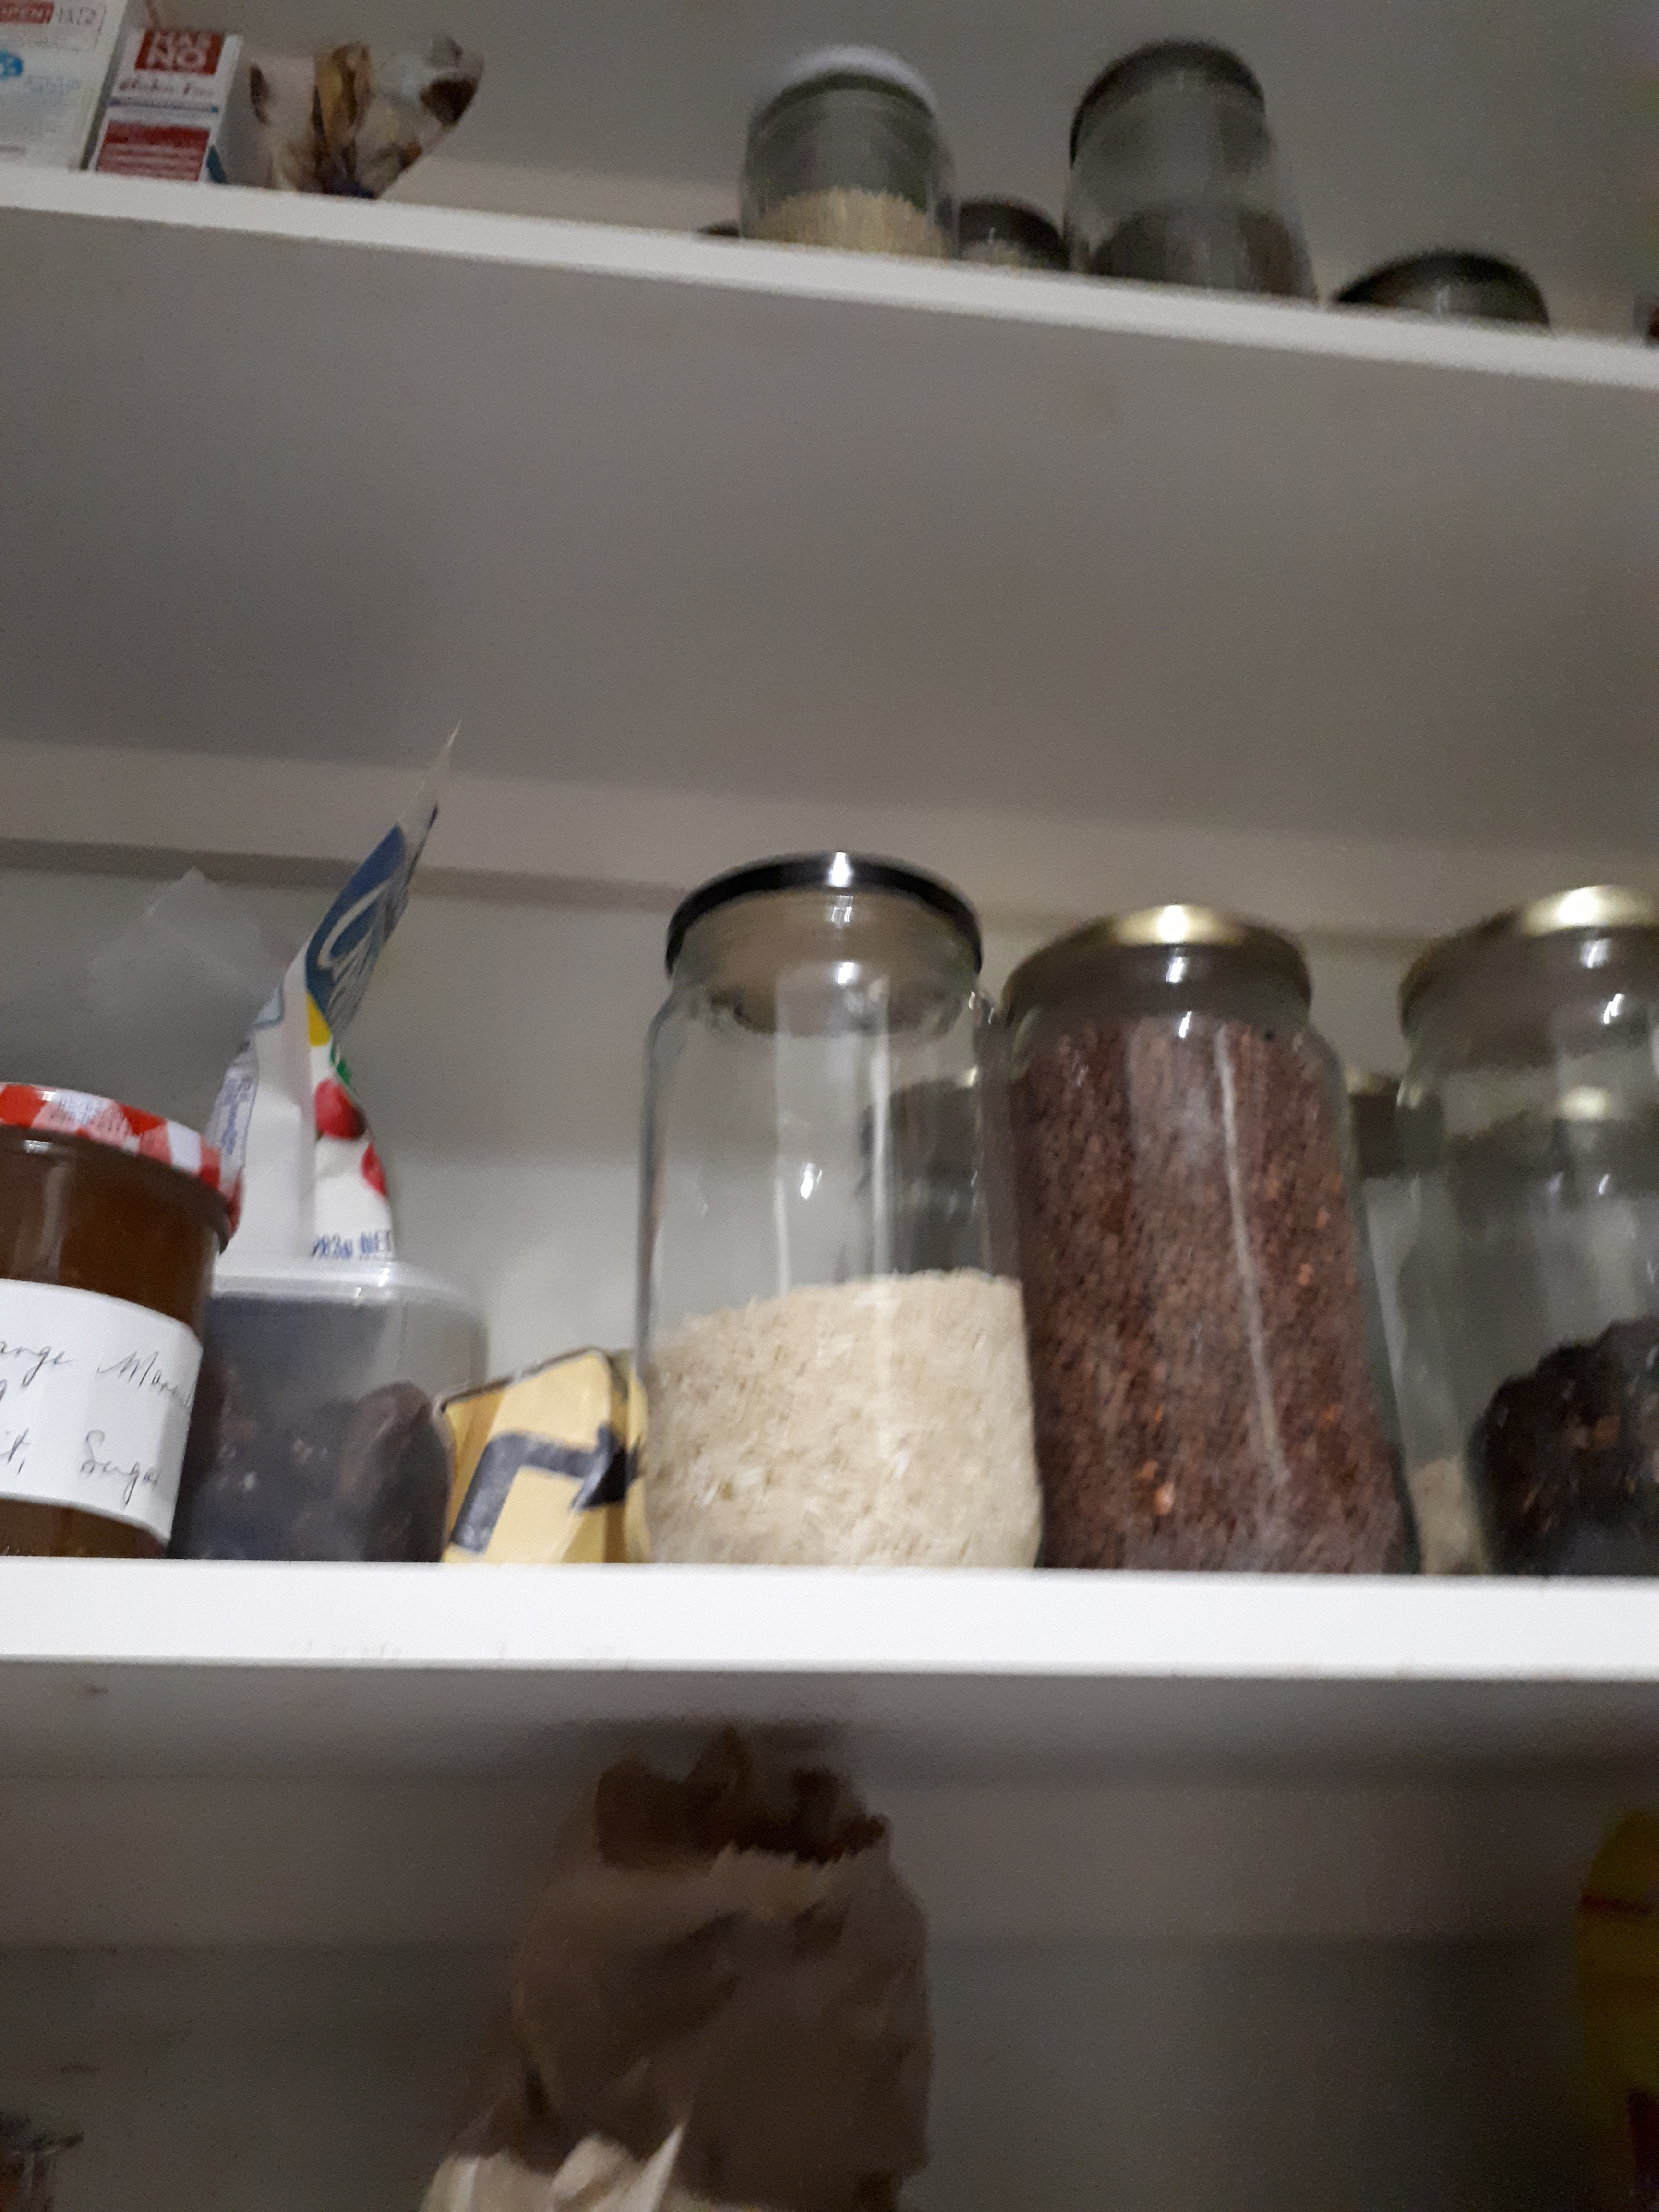right: (406, 1312, 666, 1590), (455, 1418, 655, 1568)
